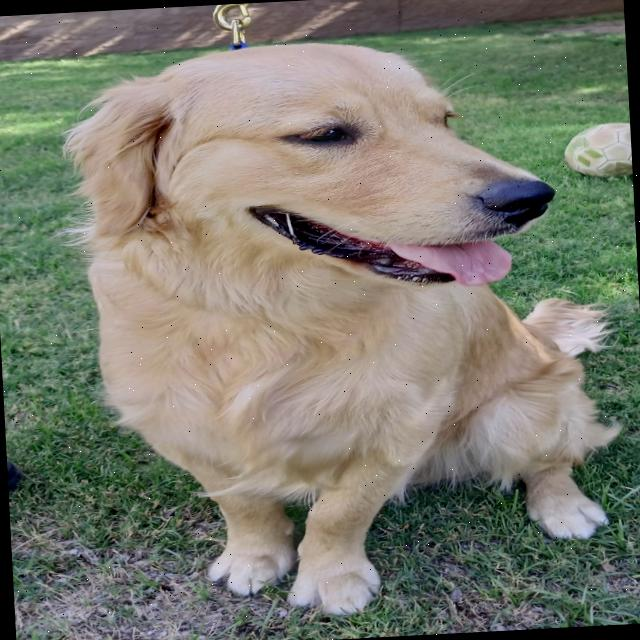golden_retriever_dog: (57, 5, 572, 321)
